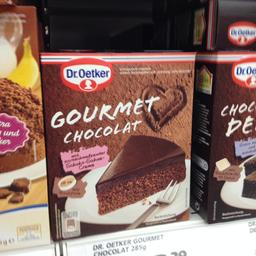cake: (38, 48, 196, 241), (194, 49, 255, 223)
